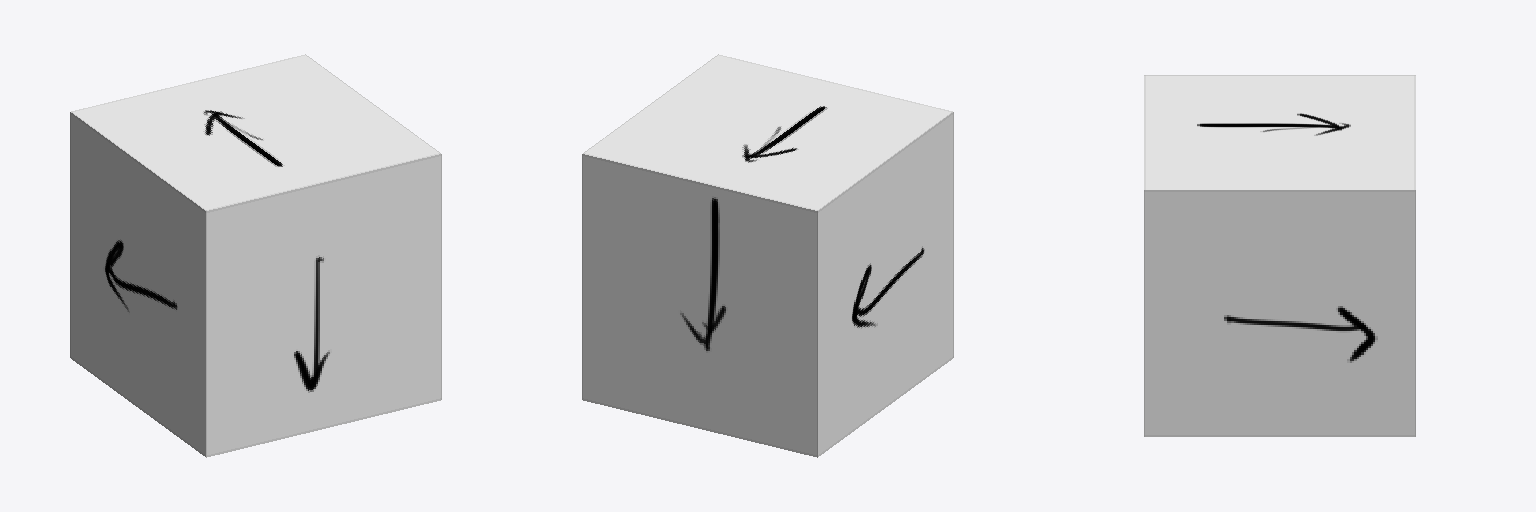
3 renders of one model, left to right at view 1: azimuth 30°, elevation 25°; view 2: azimuth 150°, elevation 25°; view 3: azimuth 270°, elevation 25°, orthographic.
Parts seen in each view (by area): view 1: pCube1; view 2: pCube1; view 3: pCube1.
Part boxes in pixels (left/top/right/bottom): pCube1: left=70, top=54, right=441, bottom=457; pCube1: left=582, top=54, right=953, bottom=457; pCube1: left=1144, top=75, right=1415, bottom=436.
Size of the model in its own units: 1 by 1 by 1.
Materials: 1 (1 with a texture image).